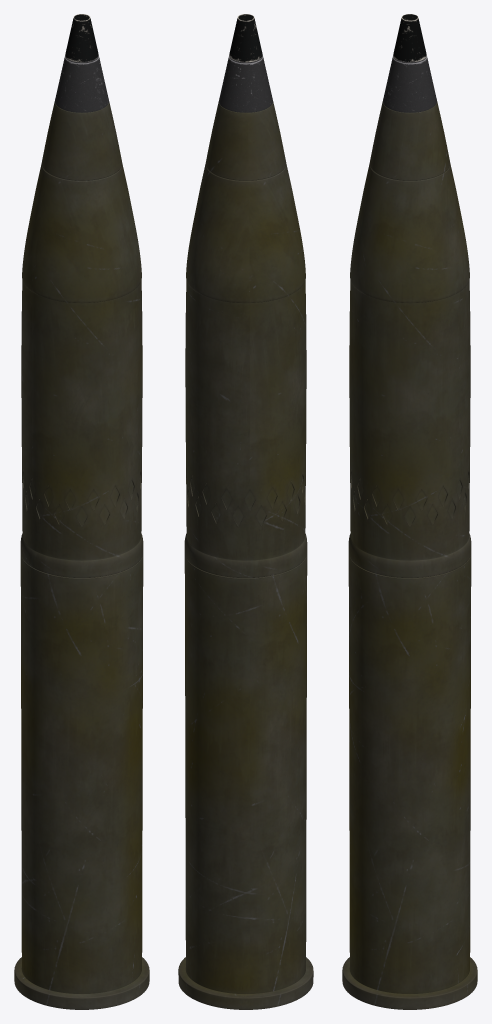
The model's file is projectile-2-1.gltf.
3 views of the same model, side by side, from view 1: azimuth 90°, elevation 25°; view 2: azimuth 150°, elevation 25°; view 3: azimuth 270°, elevation 25° (orthographic).
Visible parts, largest first — view 1: Mesh; view 2: Mesh; view 3: Mesh.
Boxes of the visible parts, x1,y1,x2,y2 form: Mesh: (14,14,149,1009); Mesh: (178,14,313,1009); Mesh: (342,14,477,1009).
Size of the model in its own units: 110 by 866 by 110.
1 material, 1 textured.
